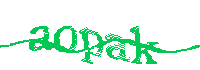a: (27, 22, 52, 53), (104, 32, 129, 63)
k: (128, 26, 159, 69)
o: (53, 23, 77, 57)
p: (78, 25, 105, 67)
